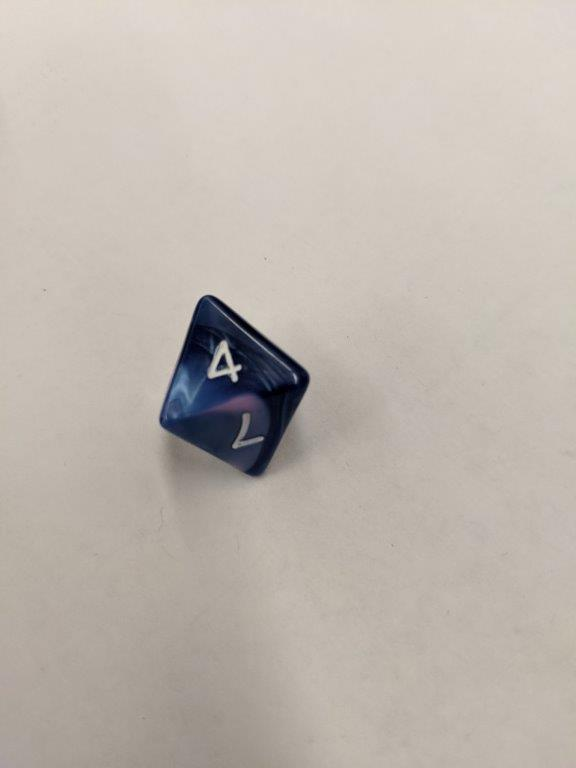d8-4: (157, 292, 312, 481)
